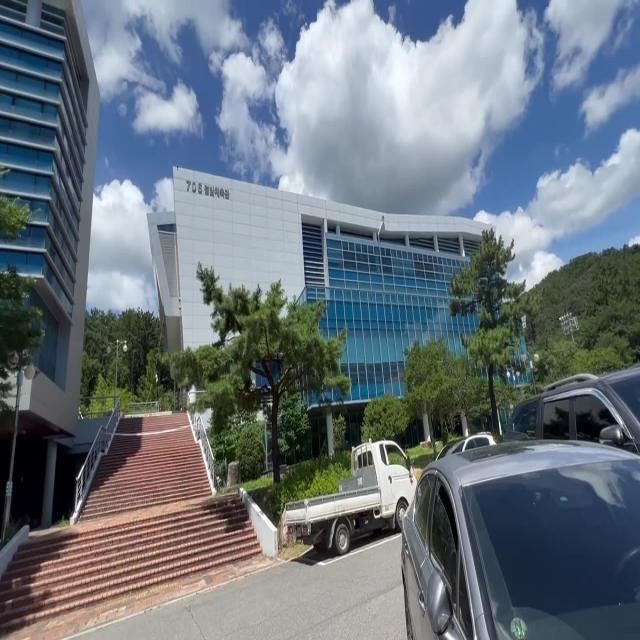building: (145, 159, 468, 345)
